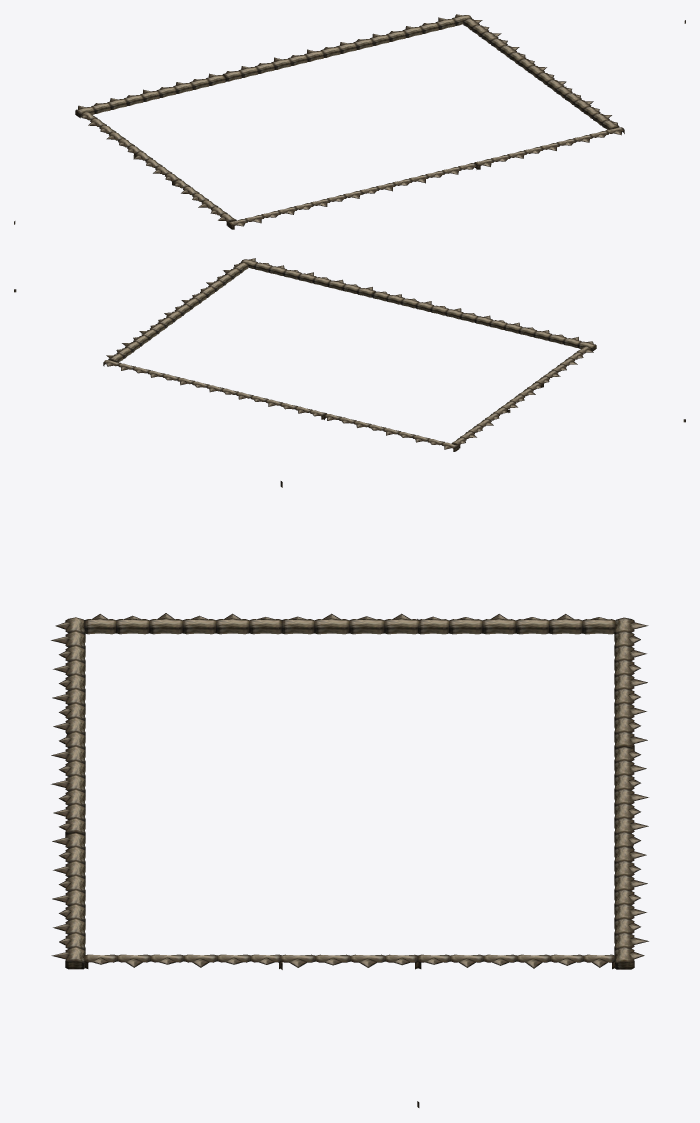
File: RD_A_FloorPath01b.FBX
The picture shows the model from 3 angles, top to bottom: view 1: azimuth 30°, elevation 25°; view 2: azimuth 150°, elevation 25°; view 3: azimuth 270°, elevation 25°; orthographic projection. The views are drawn at different scales.
Visible parts, largest first — view 1: RD_A_FloorPath01b; view 2: RD_A_FloorPath01b; view 3: RD_A_FloorPath01b.
Boxes of the visible parts, x1,y1,x2,y2 form: RD_A_FloorPath01b: (14,14,685,229); RD_A_FloorPath01b: (14,258,685,451); RD_A_FloorPath01b: (51,481,648,1107).
Bounding box in the file's own units: 6720 × 48.3 × 2736.
